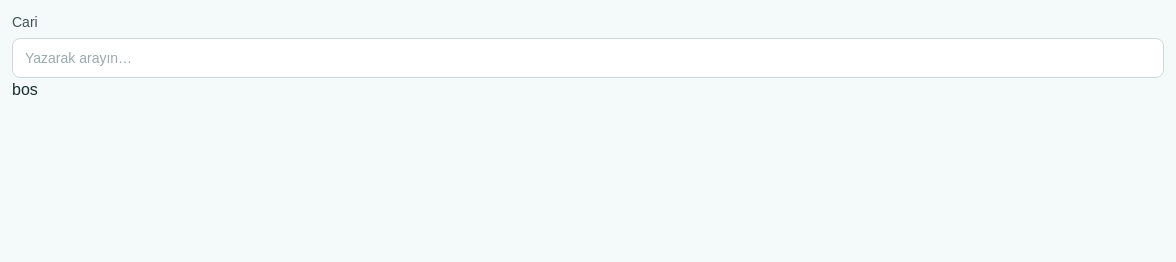
Scenario: aranabilir seçici › ↑/↓ gezinir, Enter seçer
The image size is (1176, 262).
Focus the dropdown labelled "Cari" at (588, 58), box [12,38,1164,78]
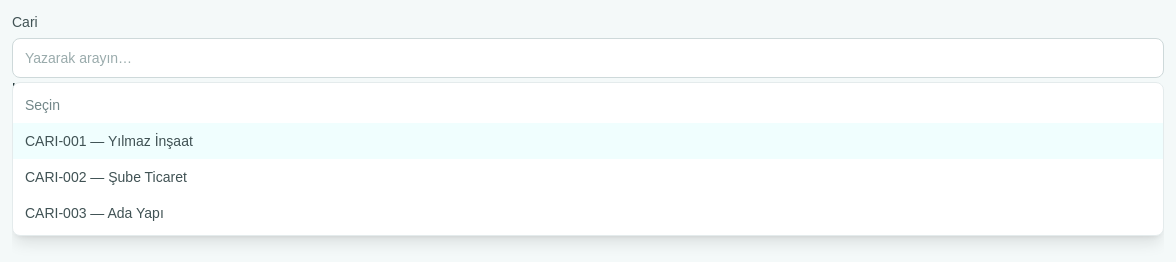
Press ArrowDown in the dropdown labelled "Cari", box [12,38,1164,78]
Press Enter in the dropdown labelled "Cari", box [12,38,1164,78]
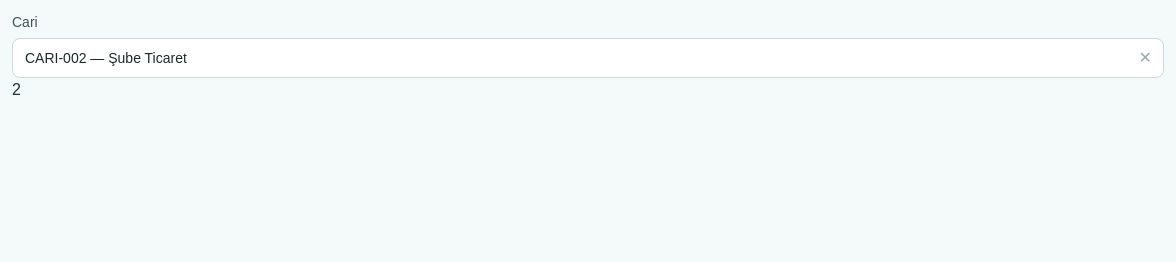
Check: the text with test id "secili" reads "2", box [12,81,21,98]
